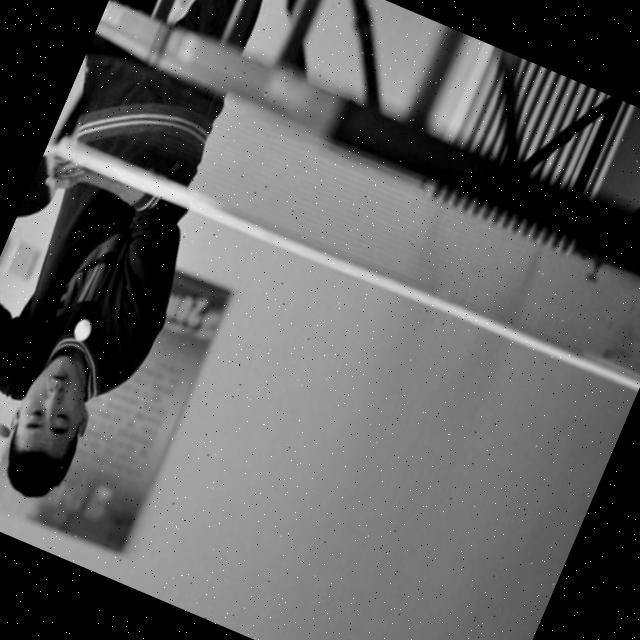ping-pong-ball: (66, 310, 100, 352)
